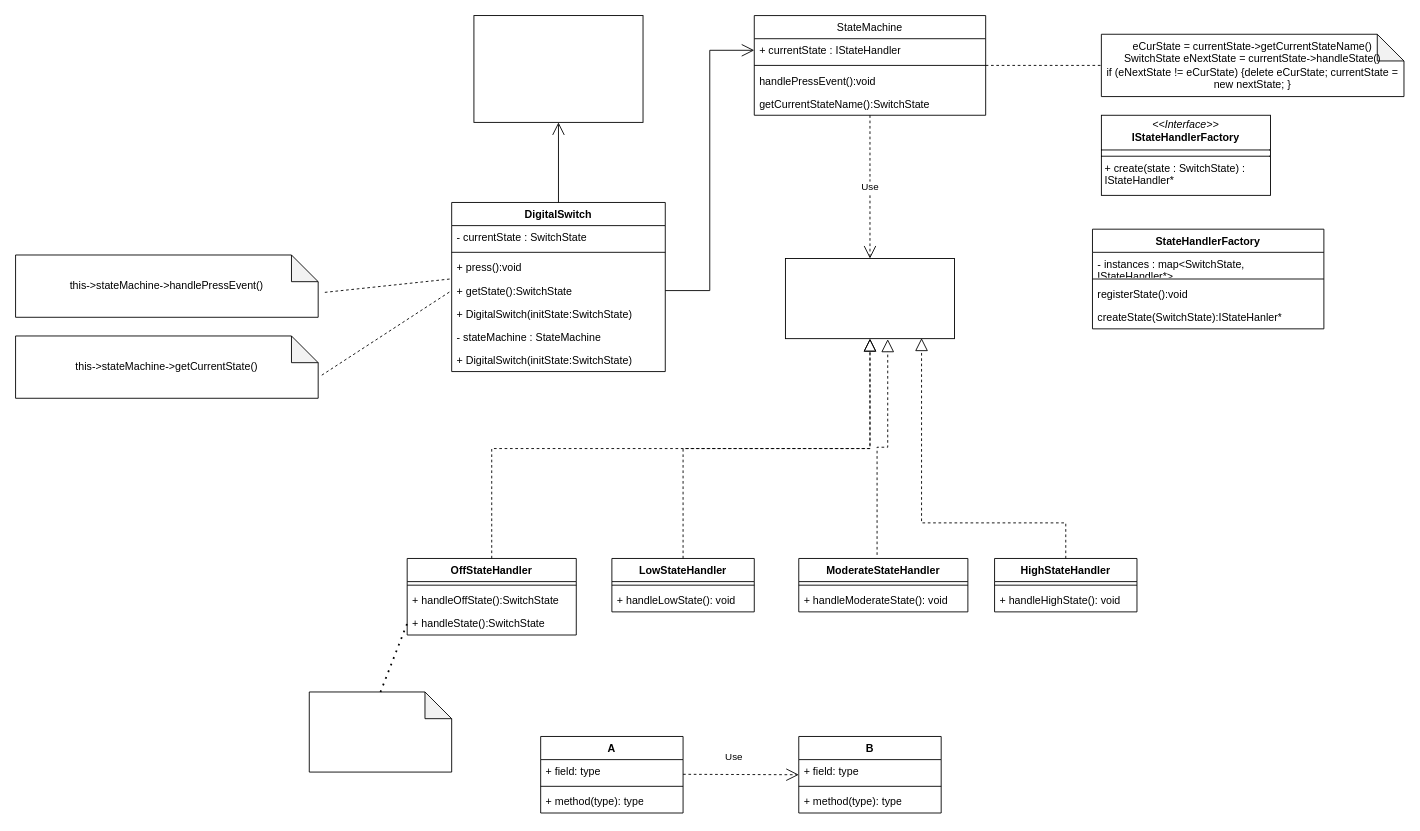
Image size: 1420x831. Some labels were removed from this diagram. Each missing label, with the centre of its shape:
"<<enum>> SwitchState + OFF + LOW + MODERATE + HIGH" belongs at point (558, 68).
"<<Interface>> IStateHandler + handleState() : SwitchState" belongs at point (870, 298).
"this->handleOffState()" belongs at point (380, 731).
